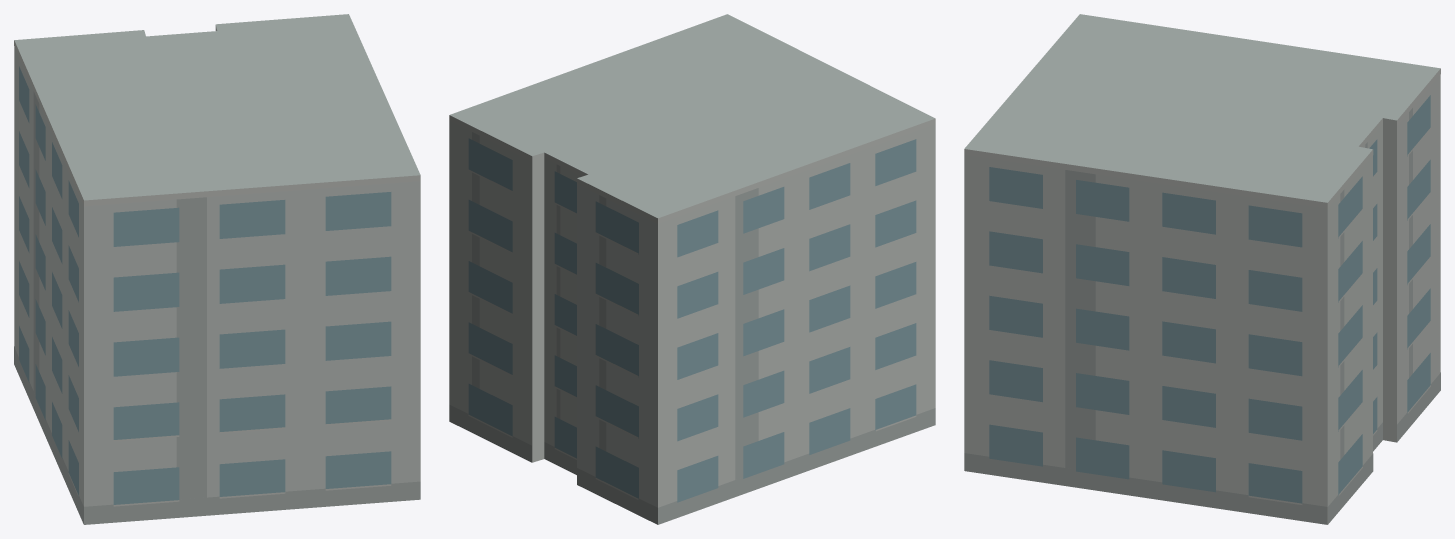
The model's file is survey-upis-32886767.glb.
3 renders of one model, left to right at view 1: azimuth 30°, elevation 25°; view 2: azimuth 150°, elevation 25°; view 3: azimuth 270°, elevation 25°, orthographic. The views are drawn at different scales.
Visible parts, largest first — view 1: survey-upis-32886767.tmp; view 2: survey-upis-32886767.tmp; view 3: survey-upis-32886767.tmp.
Part boxes in pixels (box(x1,y1,x2,y2)): survey-upis-32886767.tmp: box(14, 14, 420, 524); survey-upis-32886767.tmp: box(449, 14, 935, 524); survey-upis-32886767.tmp: box(964, 14, 1440, 524).
Bounding box in the file's own units: 16.67 × 13.25 × 17.78.
